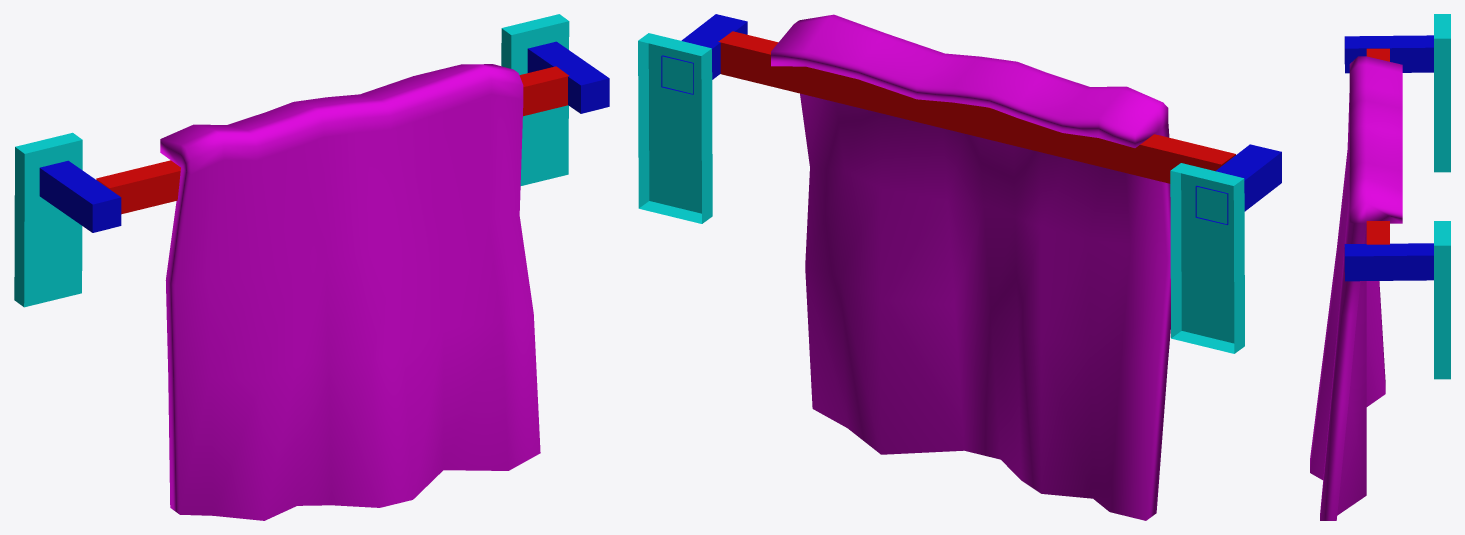
Rendered from SM_Towelrack.fbx.
3 views of the same model, side by side, from view 1: azimuth 30°, elevation 25°; view 2: azimuth 150°, elevation 25°; view 3: azimuth 270°, elevation 25° (orthographic). The views are drawn at different scales.
Visible parts, largest first — view 1: polySurface45; view 2: polySurface45; view 3: polySurface45.
Part boxes in pixels (x1,y1,x2,y2): polySurface45: (14, 14, 609, 520); polySurface45: (638, 14, 1281, 520); polySurface45: (1310, 14, 1450, 520).
Size of the model in its own units: 442 by 300 by 114.
